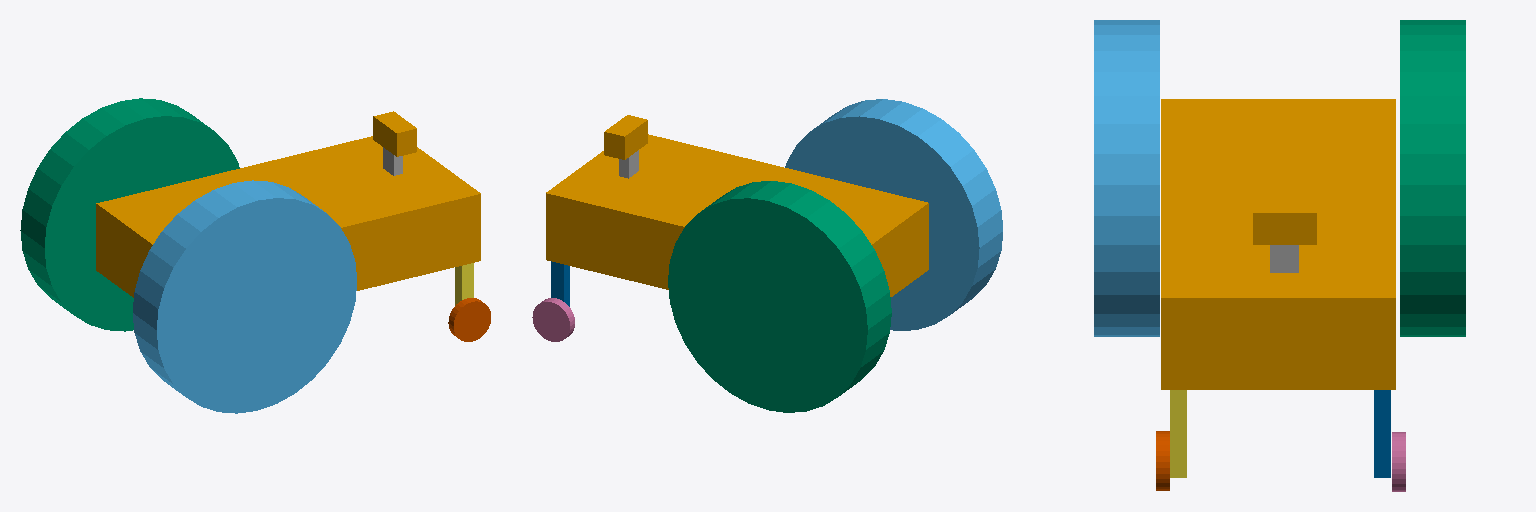
robot.urdf — wagen:
<?xml version="1.0" ?>
<robot name="wagen">
  <joint name="wagen__base__camera_suport" type="fixed">
    <parent link="wagen__base"/>
    <child link="wagen__camera_suport"/>
    <origin xyz="0.18688 0.00836 0.28565" rpy="0 0 0"/>
    <axis xyz="0 0 0"/>
    <limit lower="0" upper="0" effort="0" velocity="0"/>
  </joint>
  <joint name="wagen__base__right_suport" type="fixed">
    <parent link="wagen__base"/>
    <child link="wagen__right_suport"/>
    <origin xyz="0.33338 -0.2872  -0.18887" rpy="0 0 0"/>
    <axis xyz="0 0 0"/>
    <limit lower="0" upper="0" effort="0" velocity="0"/>
  </joint>
  <joint name="wagen__base__left_suport" type="fixed">
    <parent link="wagen__base"/>
    <child link="wagen__left_suport"/>
    <origin xyz="0.33338  0.28288 -0.18887" rpy="0 0 0"/>
    <axis xyz="0 0 0"/>
    <limit lower="0" upper="0" effort="0" velocity="0"/>
  </joint>
  <joint name="wagen__base__right_wheel" type="revolute">
    <parent link="wagen__base"/>
    <child link="wagen__rear_right"/>
    <origin xyz="-0.7191  -0.43122  0.09398" rpy="1.5708 0     0"/>
    <axis xyz="0  0 -1"/>
    <limit lower="-1.79769e+308" upper="1.79769e+308" effort="-1.0" velocity="-1.0"/>
  </joint>
  <joint name="wagen__base__left_wheel" type="revolute">
    <parent link="wagen__base"/>
    <child link="wagen__rear_left"/>
    <origin xyz="-0.7191   0.4243   0.09398" rpy="1.5708 0     0"/>
    <axis xyz="0 0 1"/>
    <limit lower="-1.79769e+308" upper="1.79769e+308" effort="-1.0" velocity="-1.0"/>
  </joint>
  <joint name="wagen__right_suport__front_right" type="revolute">
    <parent link="wagen__right_suport"/>
    <child link="wagen__front_right"/>
    <origin xyz="-0.00204 -0.04258 -0.09948" rpy="1.5708 0     0"/>
    <axis xyz="0 0 1"/>
    <limit lower="-1.79769e+308" upper="1.79769e+308" effort="-1.0" velocity="-1.0"/>
  </joint>
  <joint name="wagen__left_suport__front_left" type="revolute">
    <parent link="wagen__left_suport"/>
    <child link="wagen__front_left"/>
    <origin xyz="0.00182  0.04677 -0.09948" rpy="1.5708 0     0"/>
    <axis xyz="0 0 1"/>
    <limit lower="-1.79769e+308" upper="1.79769e+308" effort="-1.0" velocity="-1.0"/>
  </joint>
  <joint name="wagen__camera_suport__camera" type="fixed">
    <parent link="wagen__camera_suport"/>
    <child link="wagen__camera"/>
    <origin xyz="0.01253 0.00268 0.1012" rpy="0 0 0"/>
    <axis xyz="0 0 0"/>
    <limit lower="0" upper="0" effort="0" velocity="0"/>
  </joint>
  <link name="wagen__base">
    <inertial>
      <mass value="0.245552"/>
      <origin xyz="0 0 0" rpy="0 0 0"/>
      <inertia ixx="0.0105154" ixy="0" ixz="0" iyy="0.0371147" iyz="0" izz="0.0443486"/>
    </inertial>
    <collision name="wagen__collision">
      <origin xyz="-0.28142 -0.00805  0.09398" rpy="0 0 0"/>
      <geometry>
        <box size="1.31666 0.658558 0.283164"/>
      </geometry>
    </collision>
    <visual name="wagen__visual">
      <origin xyz="-0.28142 -0.00805  0.09398" rpy="0 0 0"/>
      <geometry>
        <box size="1.31666 0.658558 0.283164"/>
      </geometry>
    </visual>
  </link>
  <link name="wagen__rear_right">
    <inertial>
      <mass value="0.143808"/>
      <origin xyz="0 0 0" rpy="0 0 0"/>
      <inertia ixx="0.00744832" ixy="0" ixz="0" iyy="0.00744832" iyz="0" izz="0.01409"/>
    </inertial>
    <collision name="wagen__collision">
      <origin xyz="0 0 0" rpy="0 0 0"/>
      <geometry>
        <cylinder radius="0.442668" length="0.183455"/>
      </geometry>
    </collision>
    <visual name="wagen__visual">
      <origin xyz="0 0 0" rpy="0 0 0"/>
      <geometry>
        <cylinder radius="0.442668" length="0.183455"/>
      </geometry>
    </visual>
  </link>
  <link name="wagen__rear_left">
    <inertial>
      <mass value="0.143808"/>
      <origin xyz="0 0 0" rpy="0 0 0"/>
      <inertia ixx="0.00744832" ixy="0" ixz="0" iyy="0.00744832" iyz="0" izz="0.01409"/>
    </inertial>
    <collision name="wagen__collision">
      <origin xyz="0 0 0" rpy="0 0 0"/>
      <geometry>
        <cylinder radius="0.442668" length="0.183455"/>
      </geometry>
    </collision>
    <visual name="wagen__visual">
      <origin xyz="0 0 0" rpy="0 0 0"/>
      <geometry>
        <cylinder radius="0.442668" length="0.183455"/>
      </geometry>
    </visual>
  </link>
  <link name="wagen__right_suport">
    <inertial>
      <mass value="0.0007259"/>
      <origin xyz="0 0 0" rpy="0 0 0"/>
      <inertia ixx="4.81e-06" ixy="0" ixz="0" iyy="4.86e-06" iyz="0" izz="3.2e-07"/>
    </inertial>
    <collision name="wagen__collision">
      <origin xyz="0 0 0" rpy="0 0 0"/>
      <geometry>
        <box size="0.055069 0.047426 0.2781"/>
      </geometry>
    </collision>
    <visual name="wagen__visual">
      <origin xyz="0 0 0" rpy="0 0 0"/>
      <geometry>
        <box size="0.055069 0.047426 0.2781"/>
      </geometry>
    </visual>
  </link>
  <link name="wagen__left_suport">
    <inertial>
      <mass value="0.0007259"/>
      <origin xyz="0 0 0" rpy="0 0 0"/>
      <inertia ixx="4.81e-06" ixy="0" ixz="0" iyy="4.86e-06" iyz="0" izz="3.2e-07"/>
    </inertial>
    <collision name="wagen__collision">
      <origin xyz="0 0 0" rpy="0 0 0"/>
      <geometry>
        <box size="0.055069 0.047426 0.2781"/>
      </geometry>
    </collision>
    <visual name="wagen__visual">
      <origin xyz="0 0 0" rpy="0 0 0"/>
      <geometry>
        <box size="0.055069 0.047426 0.2781"/>
      </geometry>
    </visual>
  </link>
  <link name="wagen__front_right">
    <inertial>
      <mass value="0.00109615"/>
      <origin xyz="0 0 0" rpy="0 0 0"/>
      <inertia ixx="2.06e-06" ixy="0" ixz="0" iyy="2.06e-06" iyz="0" izz="3.85e-06"/>
    </inertial>
    <collision name="wagen__collision">
      <origin xyz="0 0 0" rpy="0 0 0"/>
      <geometry>
        <cylinder radius="0.08377" length="0.039002"/>
      </geometry>
    </collision>
    <visual name="wagen__visual">
      <origin xyz="0 0 0" rpy="0 0 0"/>
      <geometry>
        <cylinder radius="0.0837702" length="0.0390021"/>
      </geometry>
    </visual>
  </link>
  <link name="wagen__front_left">
    <inertial>
      <mass value="0.00109615"/>
      <origin xyz="0 0 0" rpy="0 0 0"/>
      <inertia ixx="2.06e-06" ixy="0" ixz="0" iyy="2.06e-06" iyz="0" izz="3.85e-06"/>
    </inertial>
    <collision name="wagen__collision">
      <origin xyz="0 0 0" rpy="0 0 0"/>
      <geometry>
        <cylinder radius="0.08377" length="0.039002"/>
      </geometry>
    </collision>
    <visual name="wagen__visual">
      <origin xyz="0 0 0" rpy="0 0 0"/>
      <geometry>
        <cylinder radius="0.0837702" length="0.0390021"/>
      </geometry>
    </visual>
  </link>
  <link name="wagen__camera_suport">
    <inertial>
      <mass value="0.00033607"/>
      <origin xyz="0 0 0" rpy="0 0 0"/>
      <inertia ixx="4.65042e-07" ixy="0" ixz="0" iyy="3.25279e-07" iyz="0" izz="2.35025e-07"/>
    </inertial>
    <collision name="wagen__collision">
      <origin xyz="0 0 0" rpy="0 0 0"/>
      <geometry>
        <box size="0.04124 0.0818 0.099569"/>
      </geometry>
    </collision>
    <visual name="wagen__visual">
      <origin xyz="0 0 0" rpy="0 0 0"/>
      <geometry>
        <box size="0.04124 0.0818 0.099569"/>
      </geometry>
    </visual>
  </link>
  <link name="wagen__camera">
    <inertial>
      <mass value="0.00160925"/>
      <origin xyz="0 0 0" rpy="0 0 0"/>
      <inertia ixx="5.6138e-06" ixy="0" ixz="0" iyy="2.42463e-06" iyz="0" izz="5.37942e-06"/>
    </inertial>
    <collision name="wagen__collision">
      <origin xyz="0 0 0" rpy="0 0 0"/>
      <geometry>
        <box size="0.090367 0.178739 0.099569"/>
      </geometry>
    </collision>
    <visual name="wagen__visual">
      <origin xyz="0 0 0" rpy="0 0 0"/>
      <geometry>
        <box size="0.090367 0.178739 0.099569"/>
      </geometry>
    </visual>
  </link>
  <gazebo reference="wagen__camera">
    <sensor type="camera" name="camera1">
      <update_rate>30.0</update_rate>
      <camera name="head">
        <horizontal_fov>1.3962634</horizontal_fov>
        <image>
          <width>800</width>
          <height>800</height>
          <format>R8G8B8</format>
        </image>
        <clip>
          <near>0.02</near>
          <far>300</far>
        </clip>
        <noise>
          <type>gaussian</type>
          <!-- Noise is sampled independently per pixel on each frame.
               That pixel's noise value is added to each of its color
               channels, which at that point lie in the range [0,1]. -->
          <mean>0.0</mean>
          <stddev>0.007</stddev>
        </noise>
      </camera>
      <plugin name="camera_controller" filename="libgazebo_ros_camera.so">
        <alwaysOn>true</alwaysOn>
        <updateRate>0.0</updateRate>
        <cameraName>rrbot/camera1</cameraName>
        <imageTopicName>image_raw</imageTopicName>
        <cameraInfoTopicName>camera_info</cameraInfoTopicName>
        <frameName>camera_link</frameName>
        <hackBaseline>0.07</hackBaseline>
        <distortionK1>0.0</distortionK1>
        <distortionK2>0.0</distortionK2>
        <distortionK3>0.0</distortionK3>
        <distortionT1>0.0</distortionT1>
        <distortionT2>0.0</distortionT2>
      </plugin>
    </sensor>
  </gazebo>
</robot>

--- Render facts (derived) ---
Views: 3 orthographic renders of the robot side by side, from view 1: azimuth 30°, elevation 25°; view 2: azimuth 150°, elevation 25°; view 3: azimuth 270°, elevation 25°.
Model wagen with 9 links and 8 joints (4 revolute, 4 fixed), rooted at wagen__base, posed all joints at 0.
Visible links, largest first — view 1: wagen__rear_right, wagen__base, wagen__rear_left, wagen__camera, wagen__front_right, wagen__right_suport; view 2: wagen__rear_left, wagen__base, wagen__rear_right, wagen__camera, wagen__front_left, wagen__left_suport; view 3: wagen__base, wagen__rear_right, wagen__rear_left, wagen__camera, wagen__right_suport, wagen__left_suport, wagen__front_right, wagen__front_left, wagen__camera_suport.
Boxes of the visible links, left/top/right/bottom form: wagen__rear_right: left=133, top=180, right=356, bottom=413; wagen__base: left=96, top=136, right=480, bottom=297; wagen__rear_left: left=20, top=98, right=239, bottom=331; wagen__camera: left=373, top=111, right=416, bottom=156; wagen__front_right: left=448, top=298, right=490, bottom=341; wagen__right_suport: left=455, top=263, right=473, bottom=305; wagen__rear_left: left=668, top=181, right=891, bottom=412; wagen__base: left=546, top=134, right=928, bottom=296; wagen__rear_right: left=785, top=99, right=1002, bottom=330; wagen__camera: left=604, top=115, right=647, bottom=159; wagen__front_left: left=532, top=298, right=574, bottom=341; wagen__left_suport: left=551, top=261, right=569, bottom=306; wagen__base: left=1161, top=99, right=1395, bottom=389; wagen__rear_right: left=1094, top=20, right=1159, bottom=336; wagen__rear_left: left=1400, top=20, right=1465, bottom=336; wagen__camera: left=1253, top=199, right=1316, bottom=244; wagen__right_suport: left=1170, top=390, right=1186, bottom=477; wagen__left_suport: left=1374, top=390, right=1390, bottom=477; wagen__front_right: left=1156, top=431, right=1169, bottom=490; wagen__front_left: left=1392, top=432, right=1405, bottom=491; wagen__camera_suport: left=1270, top=245, right=1298, bottom=272.
Bounding box of the posed robot: 1.58 × 1.04 × 0.9088 m (x, y, z).
Geometry: primitives only (box / cylinder / sphere), no mesh files.